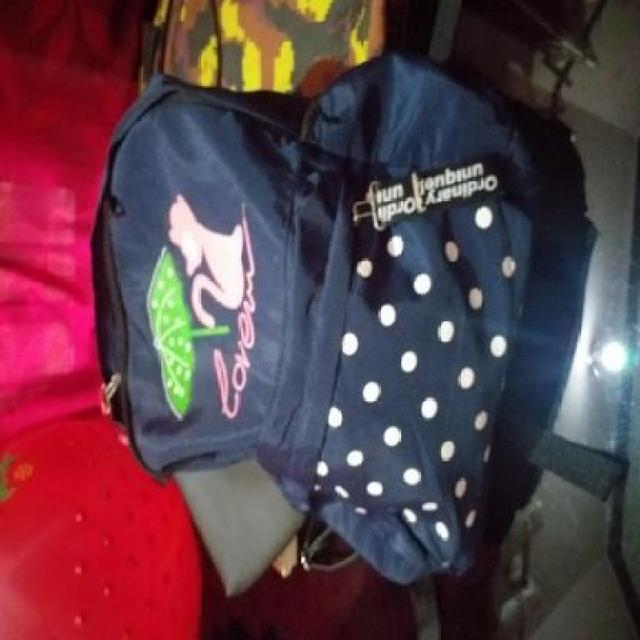backpack: (77, 41, 597, 597)
